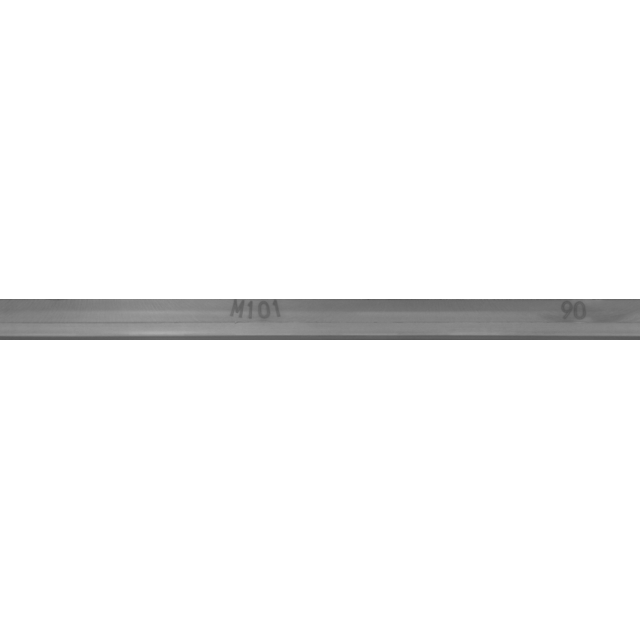mohao: (160, 270, 360, 370)
xuehao: (474, 270, 640, 370)
